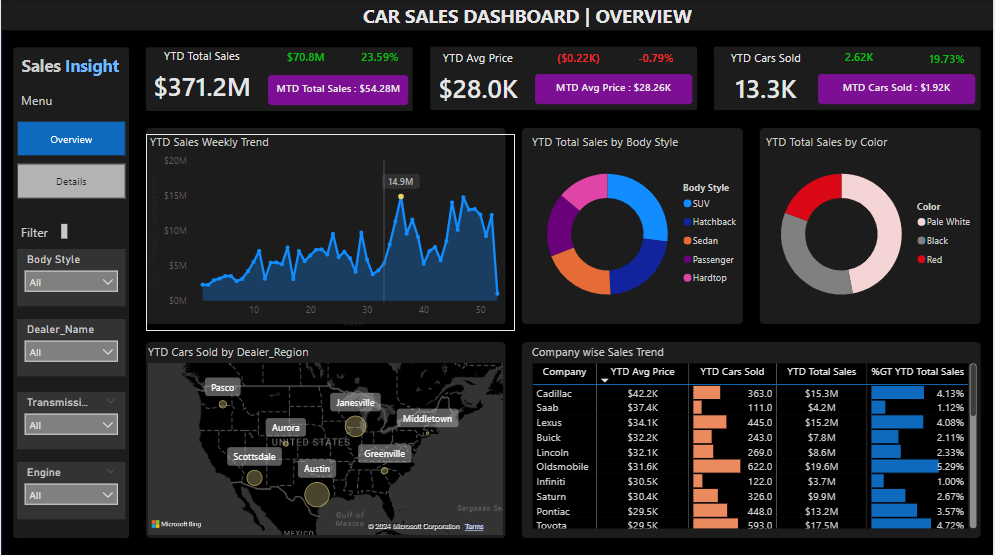

This screenshot's page, from the dashboard's own definition file:
{"tool":"powerbi","page":{"name":"Overview ","canvas":[1280,720],"ordinal":0},"visuals":[{"type":"card","title":"YTD Total Sales","fields":{"Values":["car_data.YTD Total Sales"]},"box":[184.8,63.8,149.5,79],"z":0},{"type":"card","fields":{"Values":["car_data.Sales Difference"]},"box":[357.8,57.1,72.2,40.3],"z":1000},{"type":"card","fields":{"Values":["car_data.YoY Sales Growth"]},"box":[453.5,57.1,72.2,40.3],"z":2000},{"type":"card","fields":{"Values":["car_data.MTD KPI"]},"box":[344.4,97.4,181.4,38.6],"z":3000},{"type":"card","title":"YTD Avg Price","fields":{"Values":["car_data.YTD Avg Price"]},"box":[551.4,65.7,128.6,78.6],"z":4000},{"type":"card","fields":{"Values":["car_data.Avg Price Diff"]},"box":[708.6,57.1,72.9,41.4],"z":5000},{"type":"card","fields":{"Values":["car_data.YoY Avg Price Growth"]},"box":[808.6,58.6,71.4,40],"z":6000},{"type":"card","fields":{"Values":["car_data.MRD Avg Price KPI"]},"box":[688.6,97.1,202.9,38.6],"z":7000},{"type":"card","title":"YTD Cars Sold","fields":{"Values":["car_data.YTD Cars Sold"]},"box":[922.9,65.7,128.6,78.6],"z":8000},{"type":"card","fields":{"Values":["car_data.Cars Sold Diff"]},"box":[1071.4,55.7,72.9,41.4],"z":9000},{"type":"card","fields":{"Values":["car_data.MTD Cars Sold KPI"]},"box":[1054.3,97.1,202.9,38.6],"z":10000},{"type":"areaChart","title":"YTD Sales Weekly Trend","fields":{"Category":["Calender Table.Week"],"Y":["Sum(car_data.Price ($))","car_data.Max Point"]},"box":[187.1,174.3,475.7,254.3],"z":11000},{"type":"donutChart","fields":{"Category":["car_data.Body Style"],"Y":["car_data.YTD Total Sales"]},"box":[680,174.3,282.9,238.6],"z":12000},{"type":"donutChart","fields":{"Y":["car_data.YTD Total Sales"],"Category":["car_data.Color"]},"box":[981.4,174.3,282.9,238.6],"z":13000},{"type":"map","fields":{"Category":["car_data.Dealer_Region"],"Size":["car_data.YTD Cars Sold"]},"box":[184.3,445,467.7,252.3],"z":14000},{"type":"tableEx","title":"Company wise Sales Trend ","fields":{"Values":["car_data.Company","car_data.YTD Avg Price","car_data.YTD Cars Sold","car_data.YTD Total Sales1","car_data.YTD Total Sales"]},"box":[680,445.7,584.3,242.9],"z":15000},{"type":"textbox","box":[461.4,0,452.9,51.4],"z":16000},{"type":"slicer","fields":{"Values":["car_data.Body Style"]},"box":[20,322.9,140,74.3],"z":17000},{"type":"slicer","fields":{"Values":["car_data.Dealer_Name"]},"box":[20,412.9,140,74.3],"z":18000},{"type":"slicer","fields":{"Values":["car_data.Transmission"]},"box":[20,507.1,140,74.3],"z":19000},{"type":"slicer","fields":{"Values":["car_data.Engine"]},"box":[20,597.1,140,74.3],"z":20000},{"type":"pageNavigator","box":[20,157.1,140,101.4],"z":21000},{"type":"textbox","box":[14.3,65.7,150,40],"z":22000},{"type":"textbox","box":[20,114.3,70,42.9],"z":23000},{"type":"textbox","box":[20,285.7,70,30],"z":24000},{"type":"card","fields":{"Values":["car_data.YoY Car Sold Growth"]},"box":[1184.3,58.6,72.9,41.4],"z":25000}]}

Visuals, with their boxes in screenshot pixels (x1, y1, x2, y2), scaled from the page's 1280x720 canvas onto the 995x556 screenshot:
"YTD Total Sales" card: BBox(144, 49, 260, 110)
card - car_data.Sales Difference: BBox(278, 44, 334, 75)
card - car_data.YoY Sales Growth: BBox(353, 44, 409, 75)
card - car_data.MTD KPI: BBox(268, 75, 409, 105)
"YTD Avg Price" card: BBox(429, 51, 529, 111)
card - car_data.Avg Price Diff: BBox(551, 44, 607, 76)
card - car_data.YoY Avg Price Growth: BBox(629, 45, 684, 76)
card - car_data.MRD Avg Price KPI: BBox(535, 75, 693, 105)
"YTD Cars Sold" card: BBox(717, 51, 817, 111)
card - car_data.Cars Sold Diff: BBox(833, 43, 890, 75)
card - car_data.MTD Cars Sold KPI: BBox(820, 75, 977, 105)
"YTD Sales Weekly Trend" areaChart: BBox(145, 135, 515, 331)
donutChart - car_data.Body Style x car_data.YTD Total Sales: BBox(529, 135, 749, 319)
donutChart - car_data.YTD Total Sales x car_data.Color: BBox(763, 135, 983, 319)
map - car_data.Dealer_Region x car_data.YTD Cars Sold: BBox(143, 344, 507, 538)
"Company wise Sales Trend " tableEx: BBox(529, 344, 983, 532)
textbox: BBox(359, 0, 711, 40)
slicer - car_data.Body Style: BBox(16, 249, 124, 307)
slicer - car_data.Dealer_Name: BBox(16, 319, 124, 376)
slicer - car_data.Transmission: BBox(16, 392, 124, 449)
slicer - car_data.Engine: BBox(16, 461, 124, 518)
pageNavigator: BBox(16, 121, 124, 200)
textbox: BBox(11, 51, 128, 82)
textbox: BBox(16, 88, 70, 121)
textbox: BBox(16, 221, 70, 244)
card - car_data.YoY Car Sold Growth: BBox(921, 45, 977, 77)
